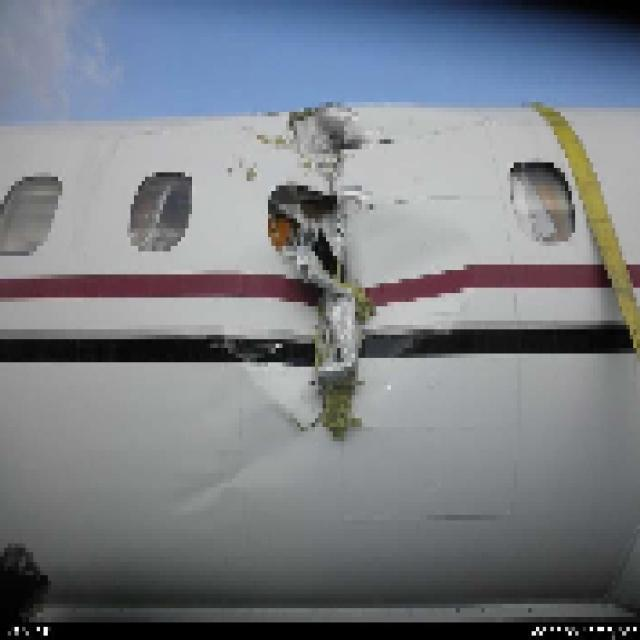crack: (268, 87, 386, 442)
dent: (367, 202, 472, 353), (179, 426, 312, 510)
